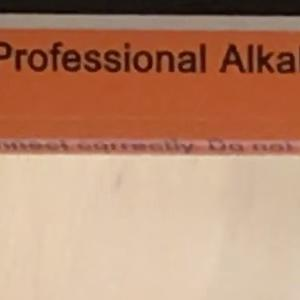keyword: (209, 34, 264, 83)
